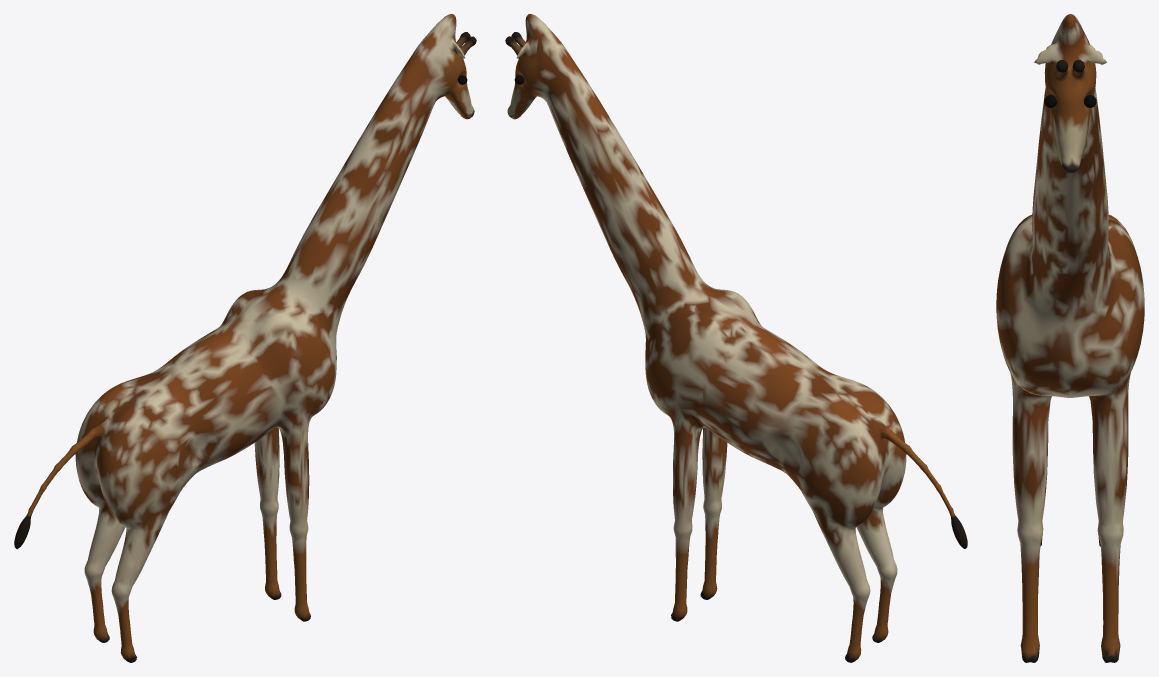
The model's file is giraffe.glb.
The picture shows the model from 3 angles, left to right: view 1: azimuth 30°, elevation 25°; view 2: azimuth 150°, elevation 25°; view 3: azimuth 270°, elevation 25°; orthographic projection. The views are drawn at different scales.
Parts seen in each view (by area): view 1: giraffe; view 2: giraffe; view 3: giraffe.
Part boxes in pixels (x1,y1,x2,y2): giraffe: (14, 14, 476, 662); giraffe: (505, 14, 967, 662); giraffe: (996, 14, 1144, 662).
Bounding box in the file's own units: 3 × 3.48 × 0.6209.
